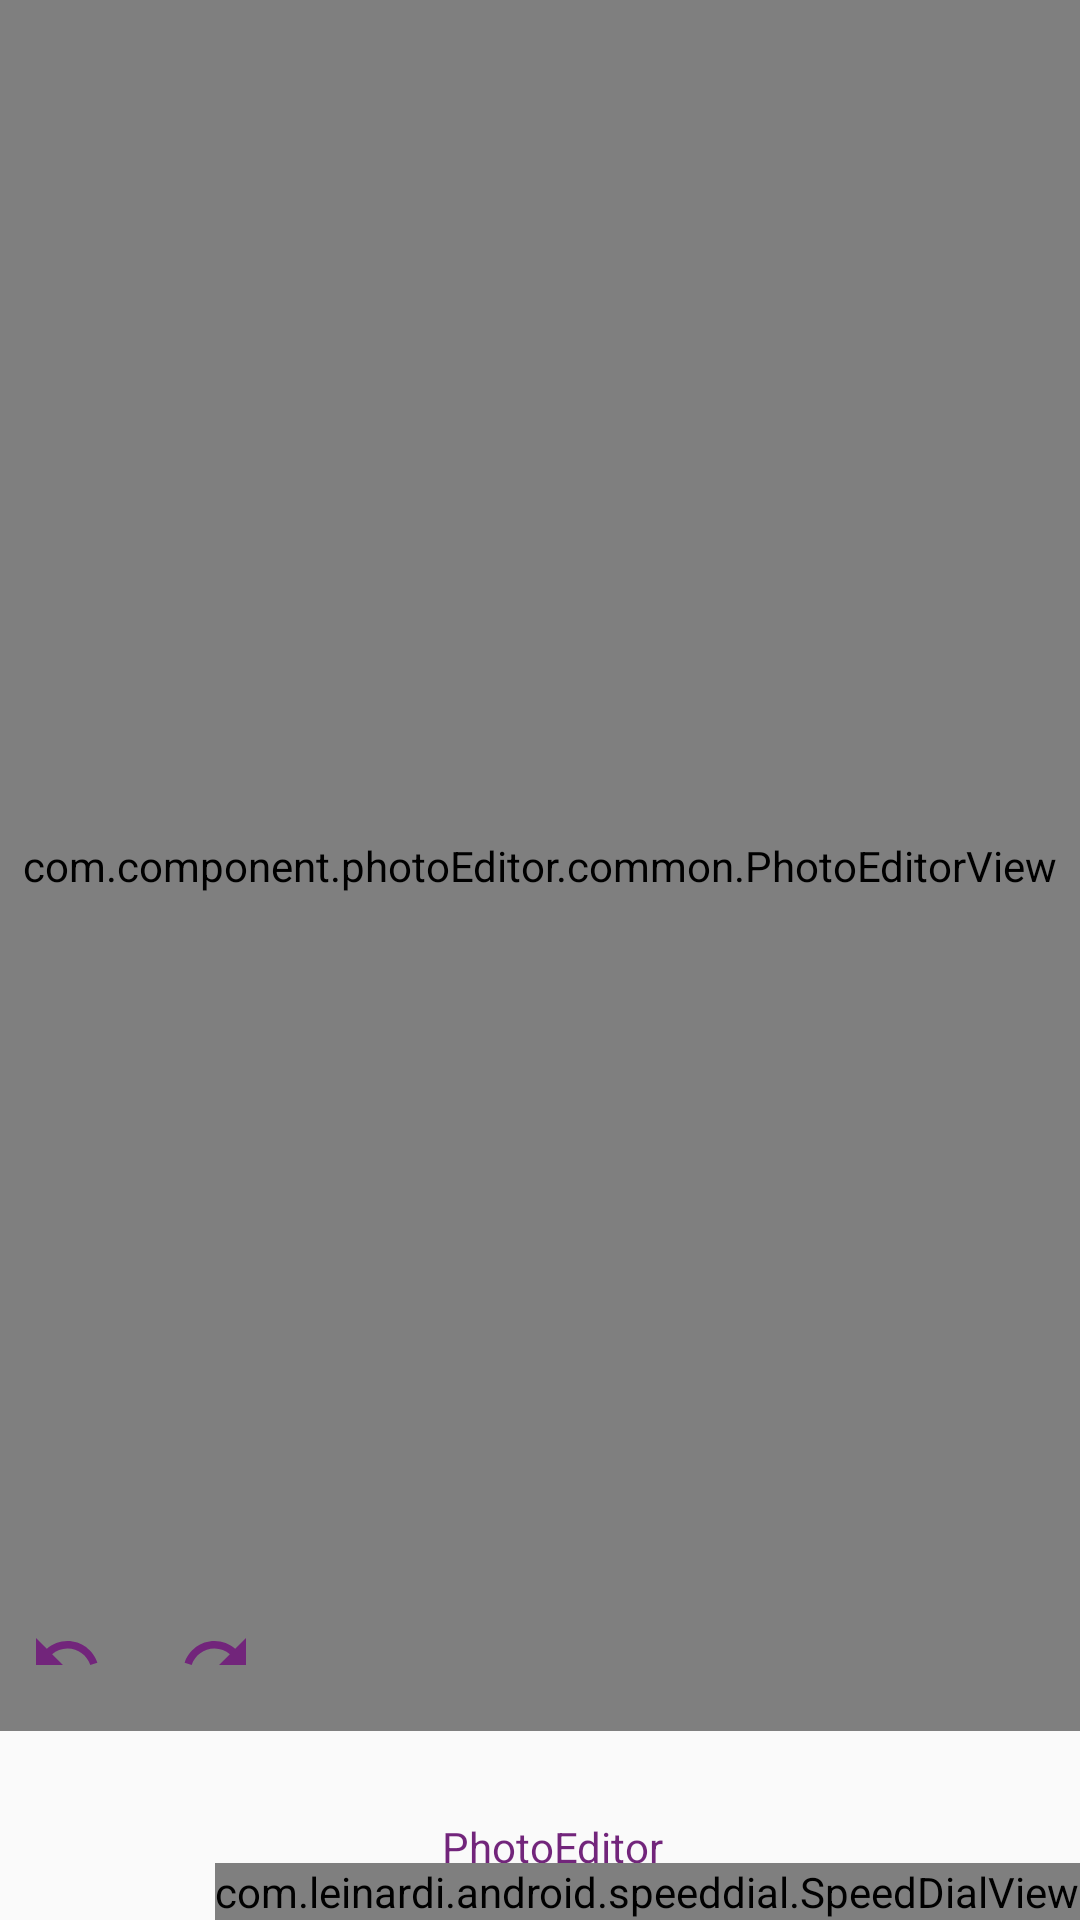

Screen size 1080px x 1920px. Icon name, then its box in pixels as (x1, y1, x2, y2):
redo: (185, 1638, 246, 1665)
undo: (36, 1638, 97, 1665)
